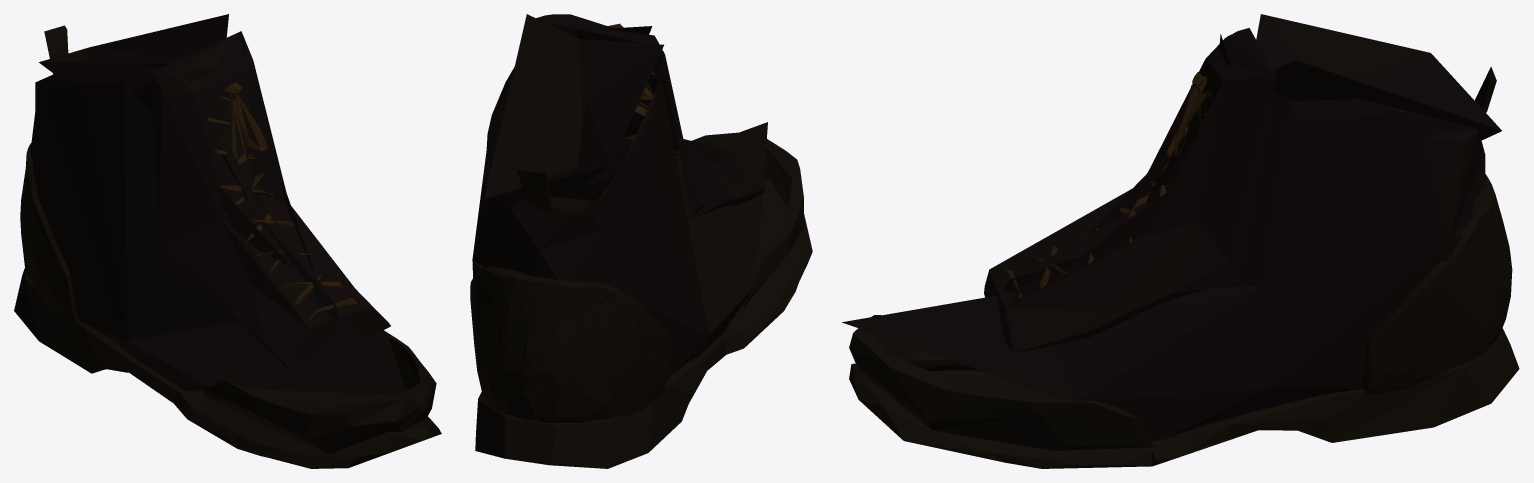
File: BootBrown.obj
3 renders of one model, left to right at view 1: azimuth 30°, elevation 25°; view 2: azimuth 150°, elevation 25°; view 3: azimuth 270°, elevation 25°, orthographic. The views are drawn at different scales.
Parts seen in each view (by area): view 1: BootBrown_brown_leather, BootBrown_brownrubber, BootBrown_Material.005; view 2: BootBrown_brown_leather, BootBrown_brownrubber, BootBrown_Material.005; view 3: BootBrown_brown_leather, BootBrown_brownrubber, BootBrown_Material.005.
Boxes of the visible parts, box(x1,y1,x2,y2) form: BootBrown_brown_leather: box(30, 14, 407, 395); BootBrown_brownrubber: box(14, 25, 441, 468); BootBrown_Material.005: box(208, 82, 357, 319); BootBrown_brown_leather: box(472, 14, 767, 380); BootBrown_brownrubber: box(470, 132, 812, 468); BootBrown_Material.005: box(608, 23, 679, 153); BootBrown_brown_leather: box(842, 14, 1501, 441); BootBrown_brownrubber: box(849, 66, 1519, 468); BootBrown_Material.005: box(1006, 72, 1212, 300).
Size of the model in its own units: 0.1353 by 0.1988 by 0.3213.
